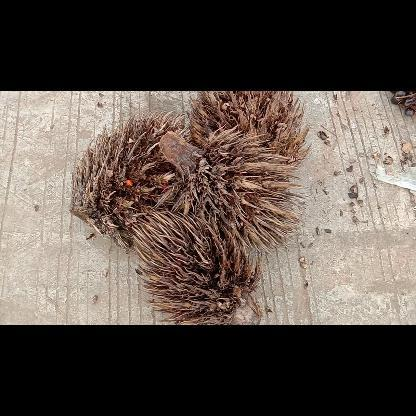Janjang kosong: (159, 124, 307, 254), (70, 110, 192, 248), (132, 212, 260, 324), (190, 90, 312, 166)
